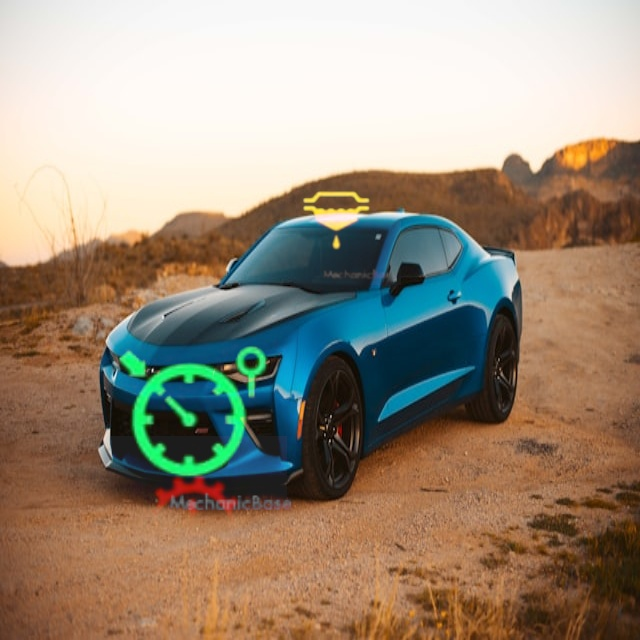symbol: (85, 306, 300, 521), (102, 436, 287, 621), (73, 69, 228, 224), (273, 157, 401, 285)
